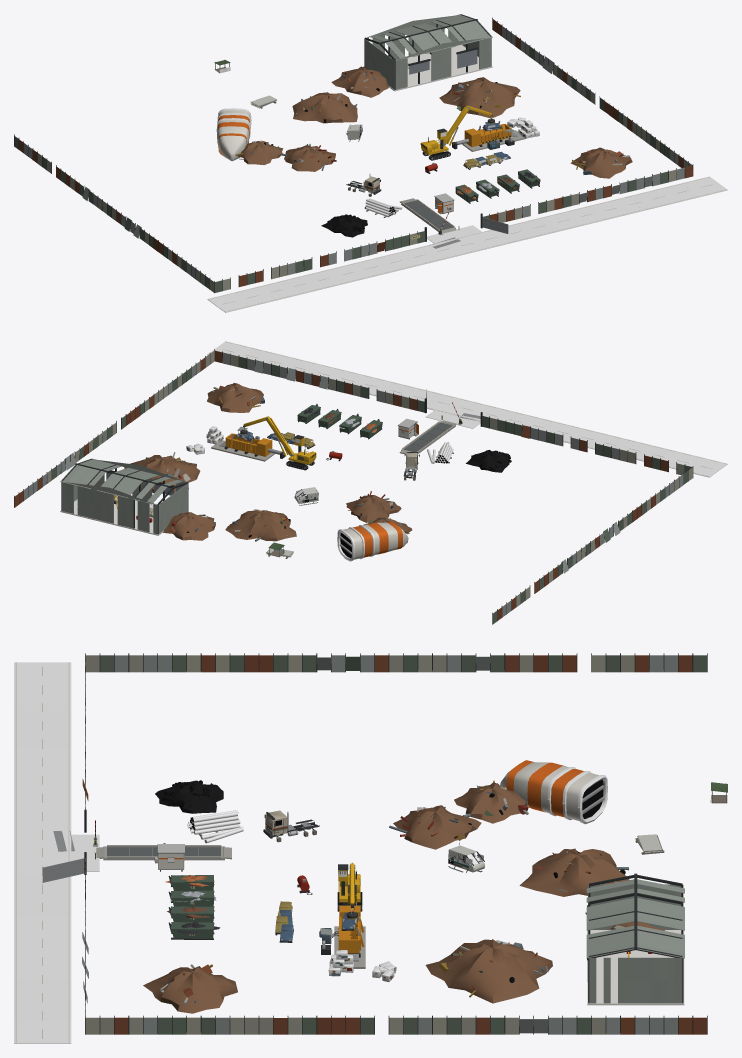
The model's file is scrapyard.glb.
3 views of the same model, one above another, from view 1: azimuth 30°, elevation 25°; view 2: azimuth 150°, elevation 25°; view 3: azimuth 270°, elevation 25° (orthographic). The views are drawn at different scales.
Visible parts, largest first — view 1: C0_0_lod0, C0_-2_lod0, C0_-1_lod0, C-1_-2_lod0, C1_0_lod0, C1_-2_lod0, C-2_-2_lod0, C-1_0_lod0, C1_-1_lod0, C-1_-1_lod0, C-2_-1_lod0, C-2_0_lod0; view 2: C0_0_lod0, C0_-1_lod0, C0_-2_lod0, C-1_-2_lod0, C1_0_lod0, C-1_0_lod0, C-2_-2_lod0, C1_-2_lod0, C1_-1_lod0, C-2_-1_lod0, C-2_0_lod0, C-1_-1_lod0; view 3: C0_0_lod0, C1_0_lod0, C0_-2_lod0, C0_-1_lod0, C-1_-2_lod0, C1_-1_lod0, C-1_0_lod0, C-2_-1_lod0, C-2_0_lod0, C1_-2_lod0, C-2_-2_lod0, C-1_-1_lod0.
Boxes of the visible parts, x1,y1,x2,y2 form: C0_0_lod0: (237, 15, 632, 237); C0_-2_lod0: (427, 184, 643, 251); C0_-1_lod0: (400, 105, 540, 231); C-1_-2_lod0: (291, 212, 476, 292); C1_0_lod0: (419, 14, 590, 107); C1_-2_lod0: (611, 157, 727, 210); C-2_-2_lod0: (205, 262, 309, 312); C-1_0_lod0: (216, 95, 336, 162); C1_-1_lod0: (516, 89, 683, 174); C-1_-1_lod0: (321, 163, 439, 232); C-2_-1_lod0: (111, 206, 204, 285); C-2_0_lod0: (18, 138, 111, 217); C0_0_lod0: (60, 383, 510, 541); C0_-1_lod0: (194, 404, 455, 470); C0_-2_lod0: (295, 361, 480, 430); C-1_-2_lod0: (452, 402, 643, 458); C1_0_lod0: (18, 426, 180, 520); C-1_0_lod0: (266, 491, 409, 561); C-2_-2_lod0: (611, 443, 727, 484); C1_-2_lod0: (205, 341, 308, 381); C1_-1_lod0: (111, 357, 264, 452); C-2_-1_lod0: (590, 474, 683, 552); C-2_0_lod0: (497, 542, 590, 620); C-1_-1_lod0: (384, 425, 511, 499); C0_0_lod0: (143, 780, 684, 1013); C1_0_lod0: (404, 916, 693, 1034); C0_-2_lod0: (14, 834, 129, 979); C0_-1_lod0: (103, 843, 396, 973); C-1_-2_lod0: (14, 714, 97, 852); C1_-1_lod0: (114, 958, 403, 1034); C-1_0_lod0: (400, 760, 664, 854); C-2_-1_lod0: (114, 653, 403, 672); C-2_0_lod0: (404, 653, 693, 672); C1_-2_lod0: (14, 956, 114, 1043); C-2_-2_lod0: (14, 653, 114, 730); C-1_-1_lod0: (107, 780, 407, 847).
Size of what is drawn, in the model's own units: 126 by 11.52 by 99.9.
